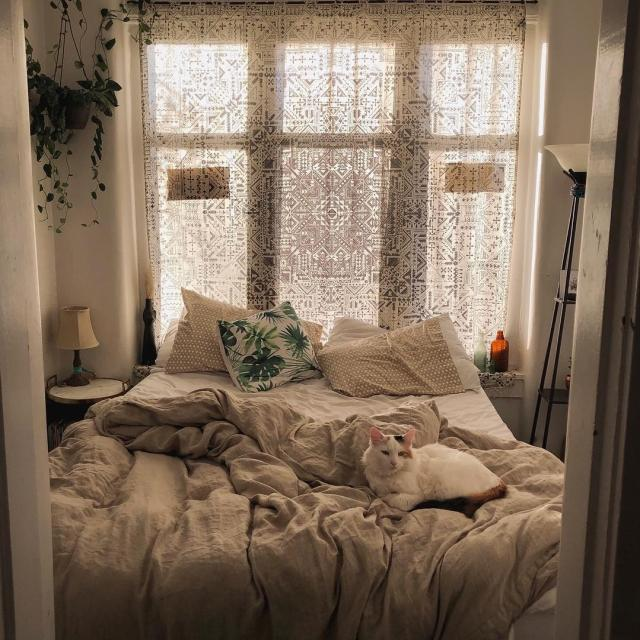bed: (58, 307, 543, 600)
